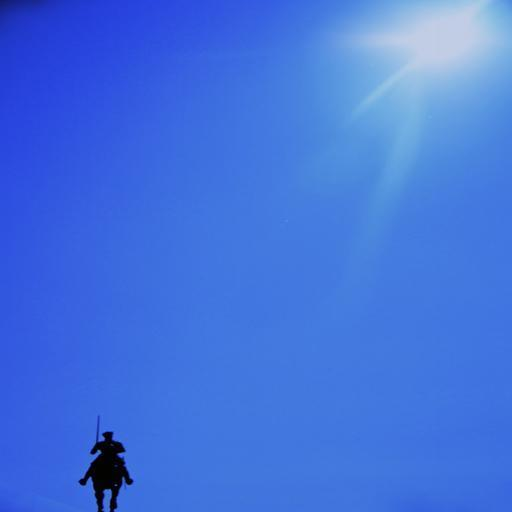horse: (89, 455, 126, 512)
